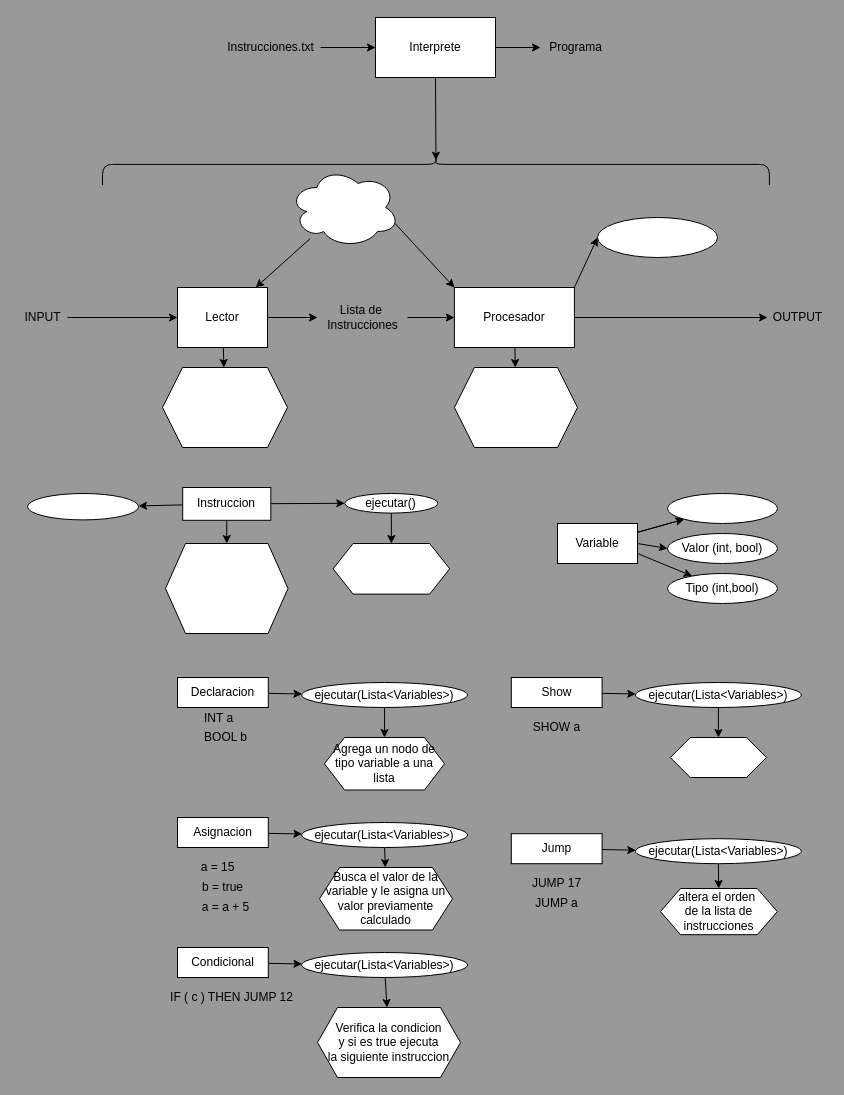
Image size: 844x1095. Some labels were removed from this diagram. The shapes that lost their labels are listed below. From the top down, each one's centre as x and y in pixels, then its label:
At (343,207): "Instruccion, Pila, Lista, Nodo".
At (657,237): "Lista de Variables (List<Variables>)".
At (225,407): "Recibe un archivo de texto y carga en una pila las instrucciones".
At (515,407): "Ejecuta una a una las instrucciones en la lista".
At (82,506): "string instruccion".
At (722,508): "Nombre (string)".
At (226,588): "5 Subclases: - Declaracion - Asignacion - Condicional -Show -Jump".
At (391,568): "Se especifica en cada subclase".
At (717,757): "print(variable)".
